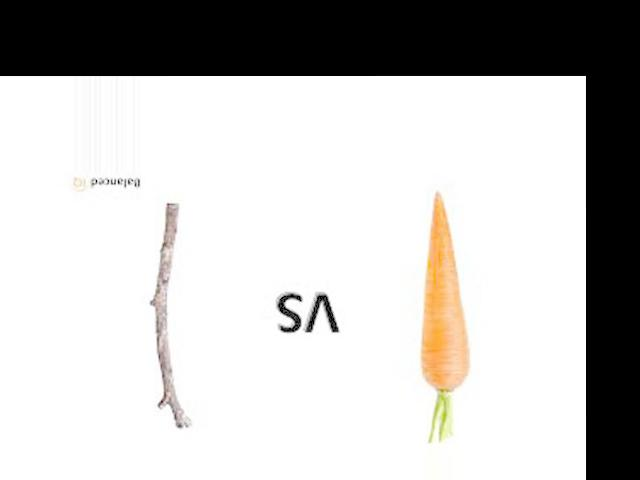carrot: (411, 184, 472, 401)
